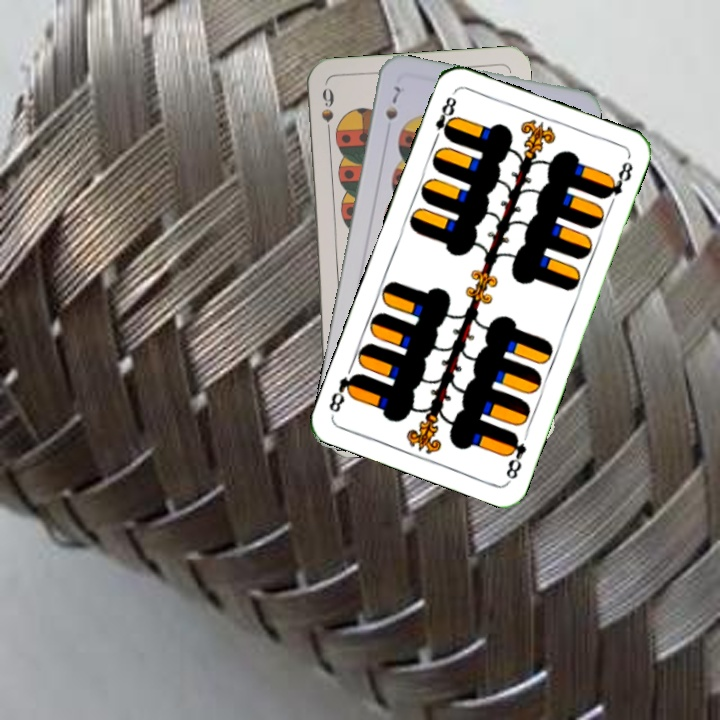E8: (429, 92, 459, 146), (502, 428, 530, 483)
S7: (381, 82, 403, 123)
S9: (317, 84, 337, 142)
